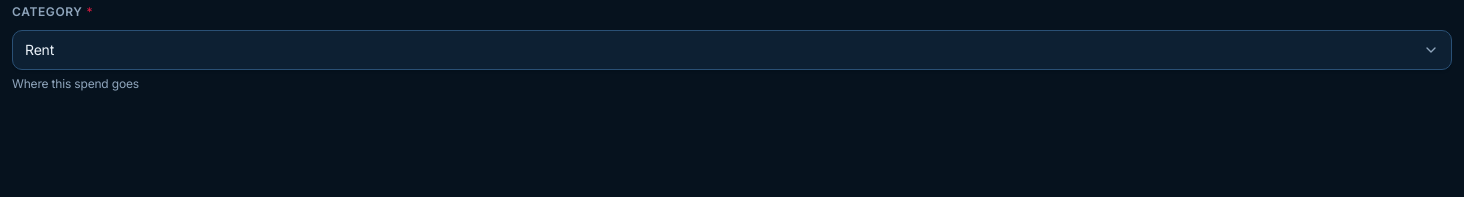
Test: Select › shows the empty option label after it is chosen over a non-empty default
The image size is (1464, 197).
Click the dropdown named "Category": (40, 50) [12,30,1452,70]
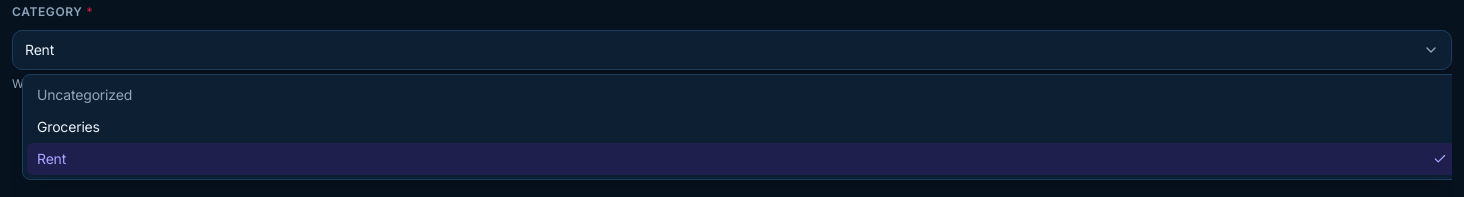
Click the option "Uncategorized": (84, 94) [37,86,132,103]
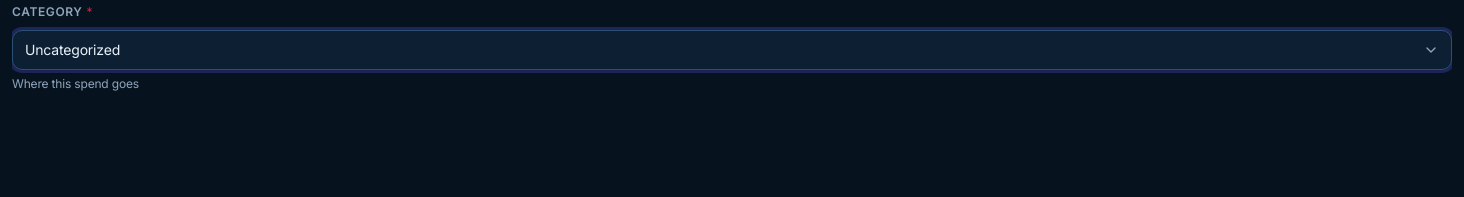
Expected: the dropdown named "Category" reads "Uncategorized", [12,30,1452,70]
